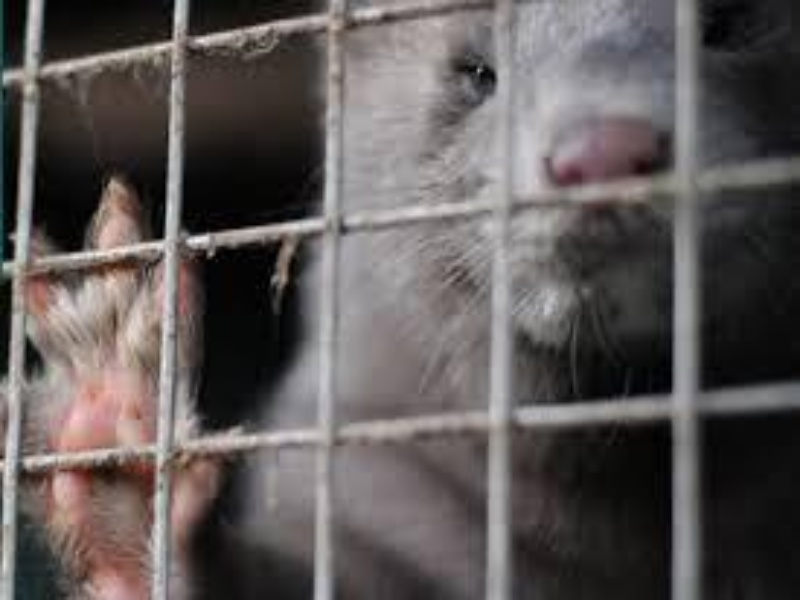minkish: (23, 3, 787, 594)
